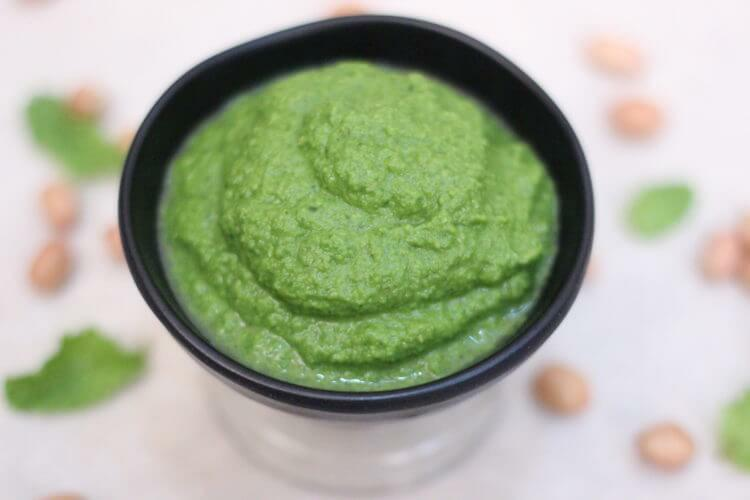GreenChutney: (154, 59, 560, 393)
